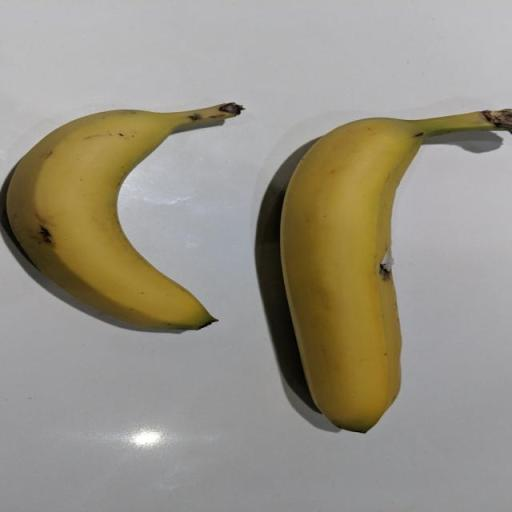fruit: (282, 109, 511, 431), (6, 102, 240, 329)
